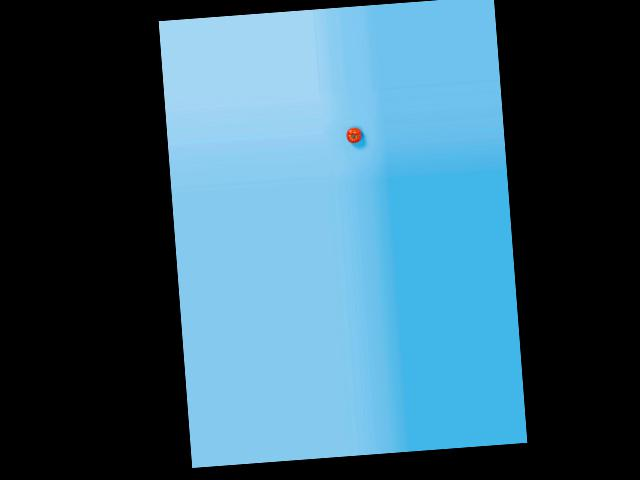tomato: (345, 127, 362, 144)
